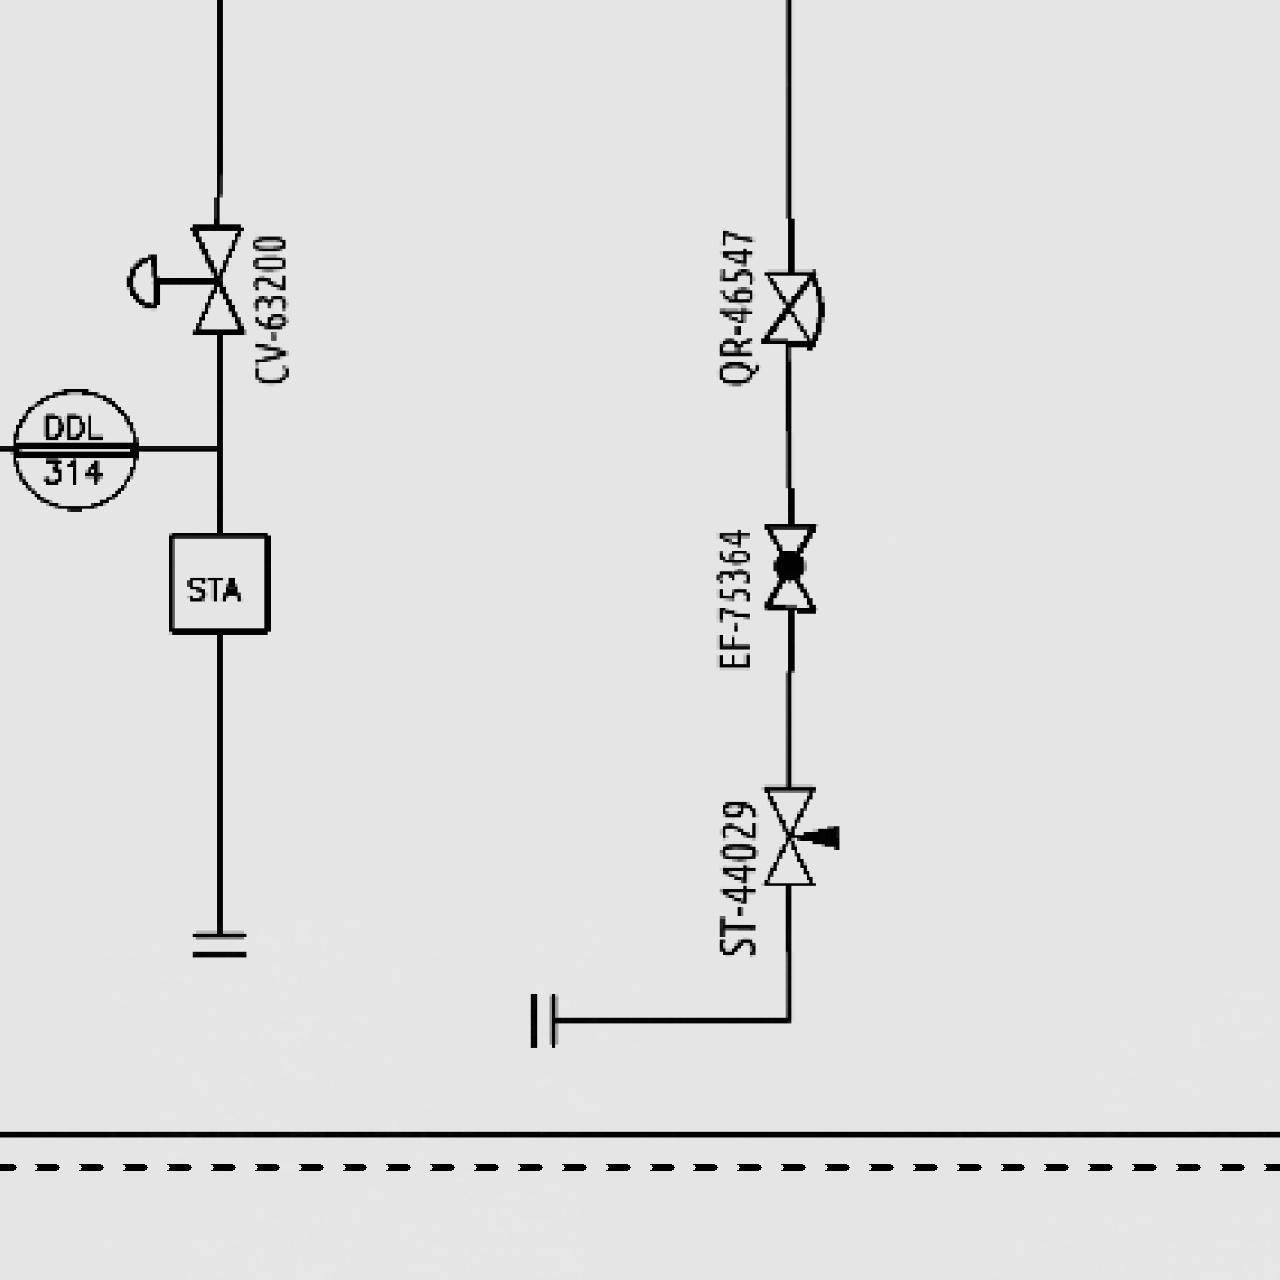Control-Panel: (6, 381, 142, 516)
